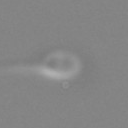normal: (1, 59, 43, 78)
